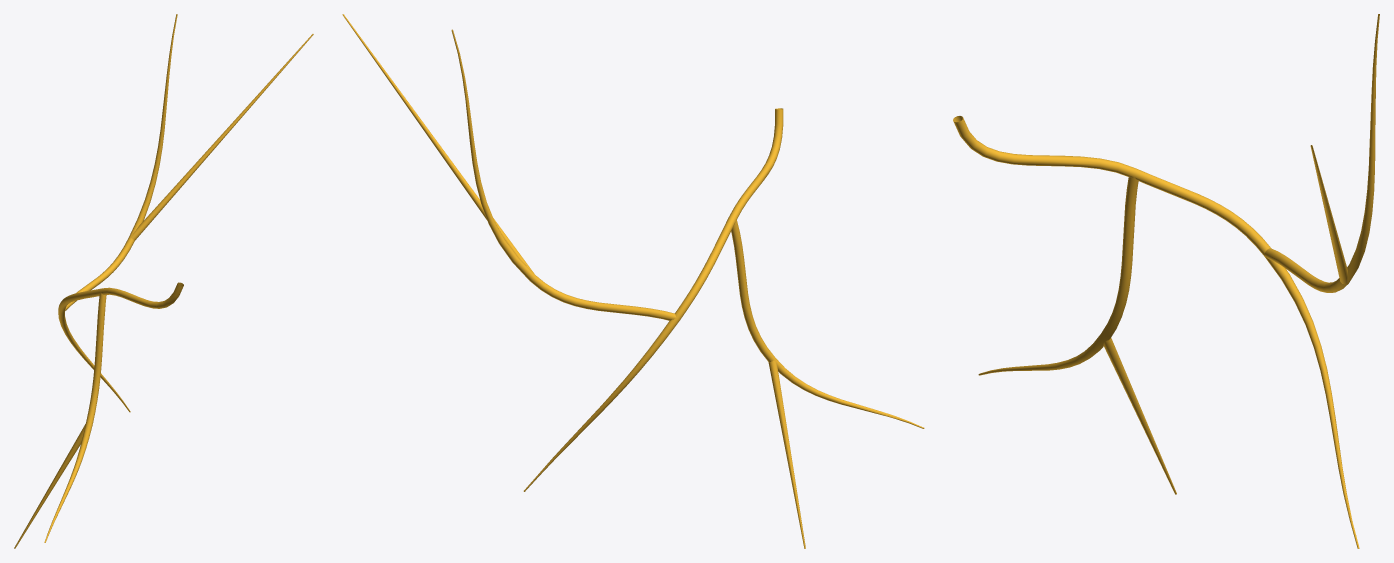
Rendered from nervoso-muscular-branches-of-radial-nerve-r.glb.
3 renders of one model, left to right at view 1: azimuth 30°, elevation 25°; view 2: azimuth 150°, elevation 25°; view 3: azimuth 270°, elevation 25°, orthographic. The views are drawn at different scales.
Parts seen in each view (by area): view 1: Muscular branches of radial nerve.r; view 2: Muscular branches of radial nerve.r; view 3: Muscular branches of radial nerve.r.
Part boxes in pixels (x1,y1,x2,y2): Muscular branches of radial nerve.r: [14, 14, 313, 548]; Muscular branches of radial nerve.r: [342, 14, 924, 548]; Muscular branches of radial nerve.r: [953, 14, 1379, 548].
Bounding box in the file's own units: 0.062 × 0.0671 × 0.04.
